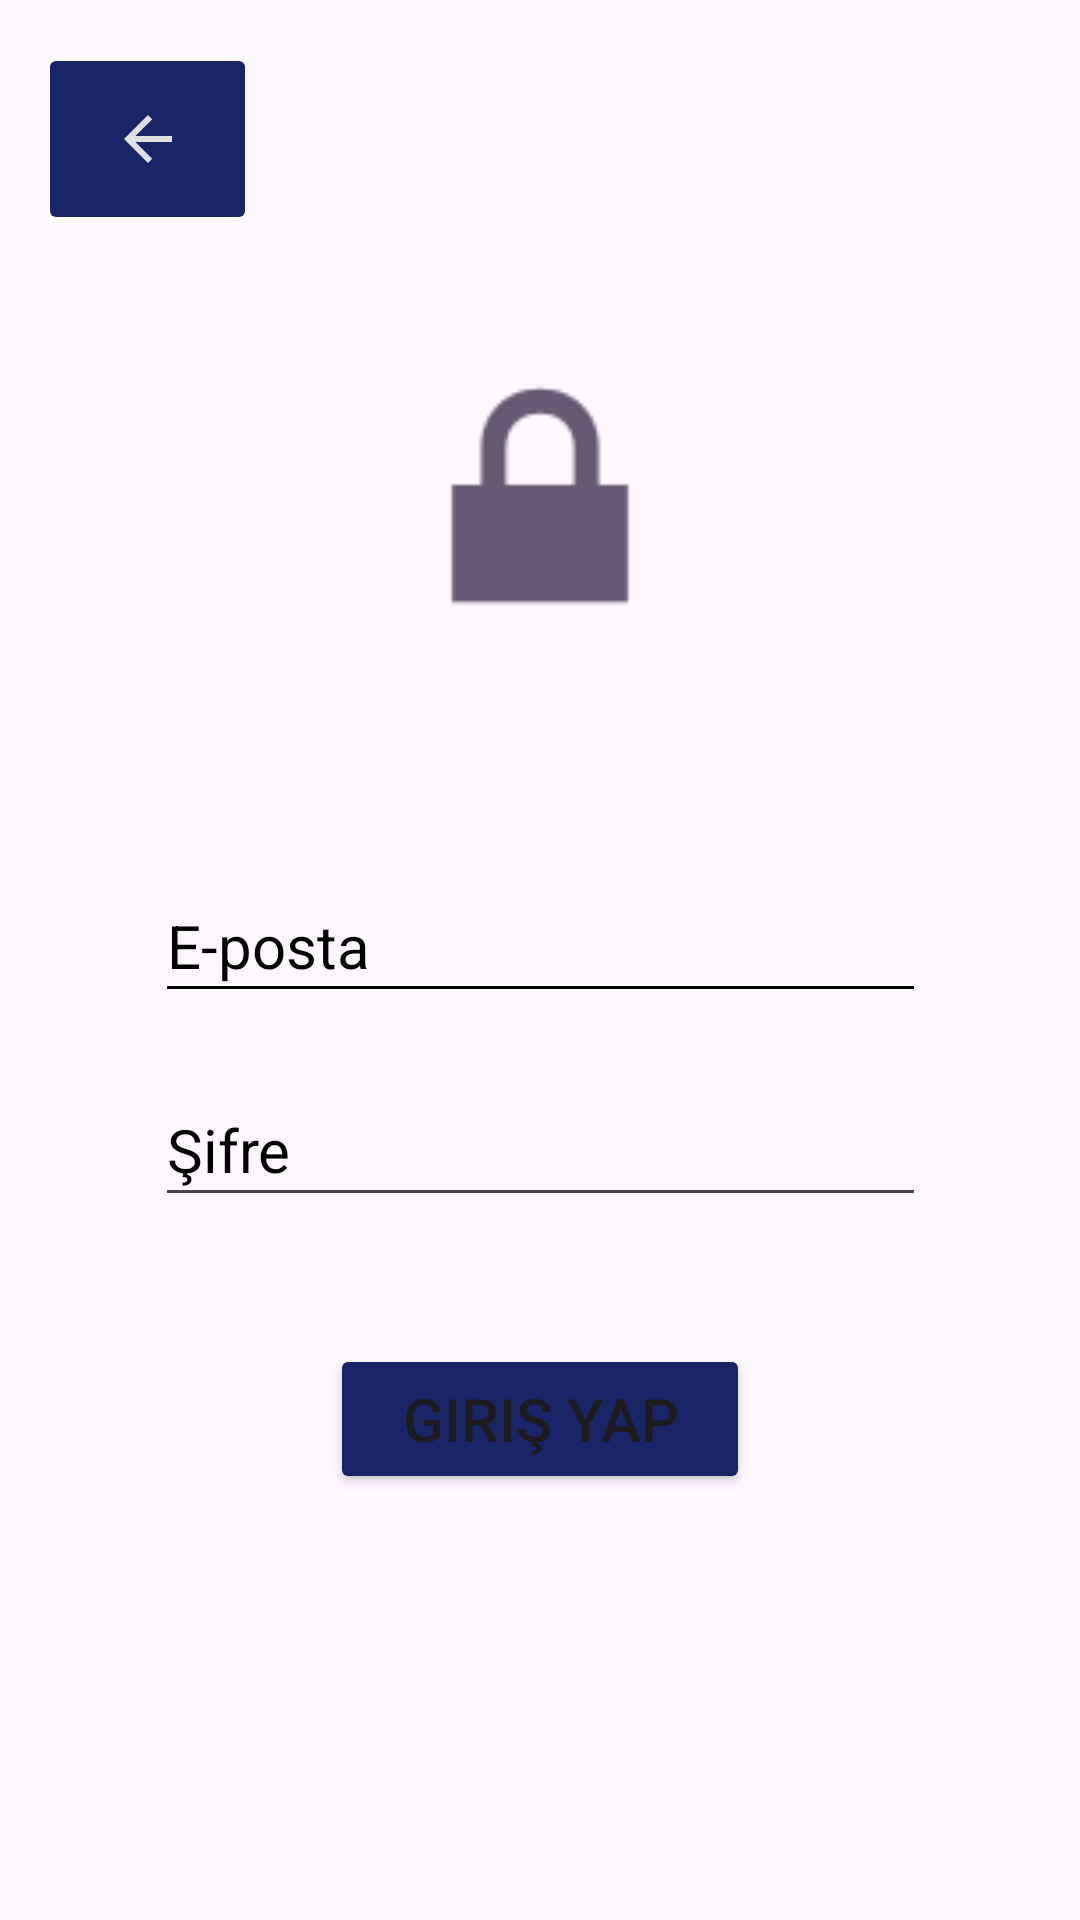

Named icons in this screenshot (1080 x 1920) and their centers, (x,y):
lock: (540,495)
